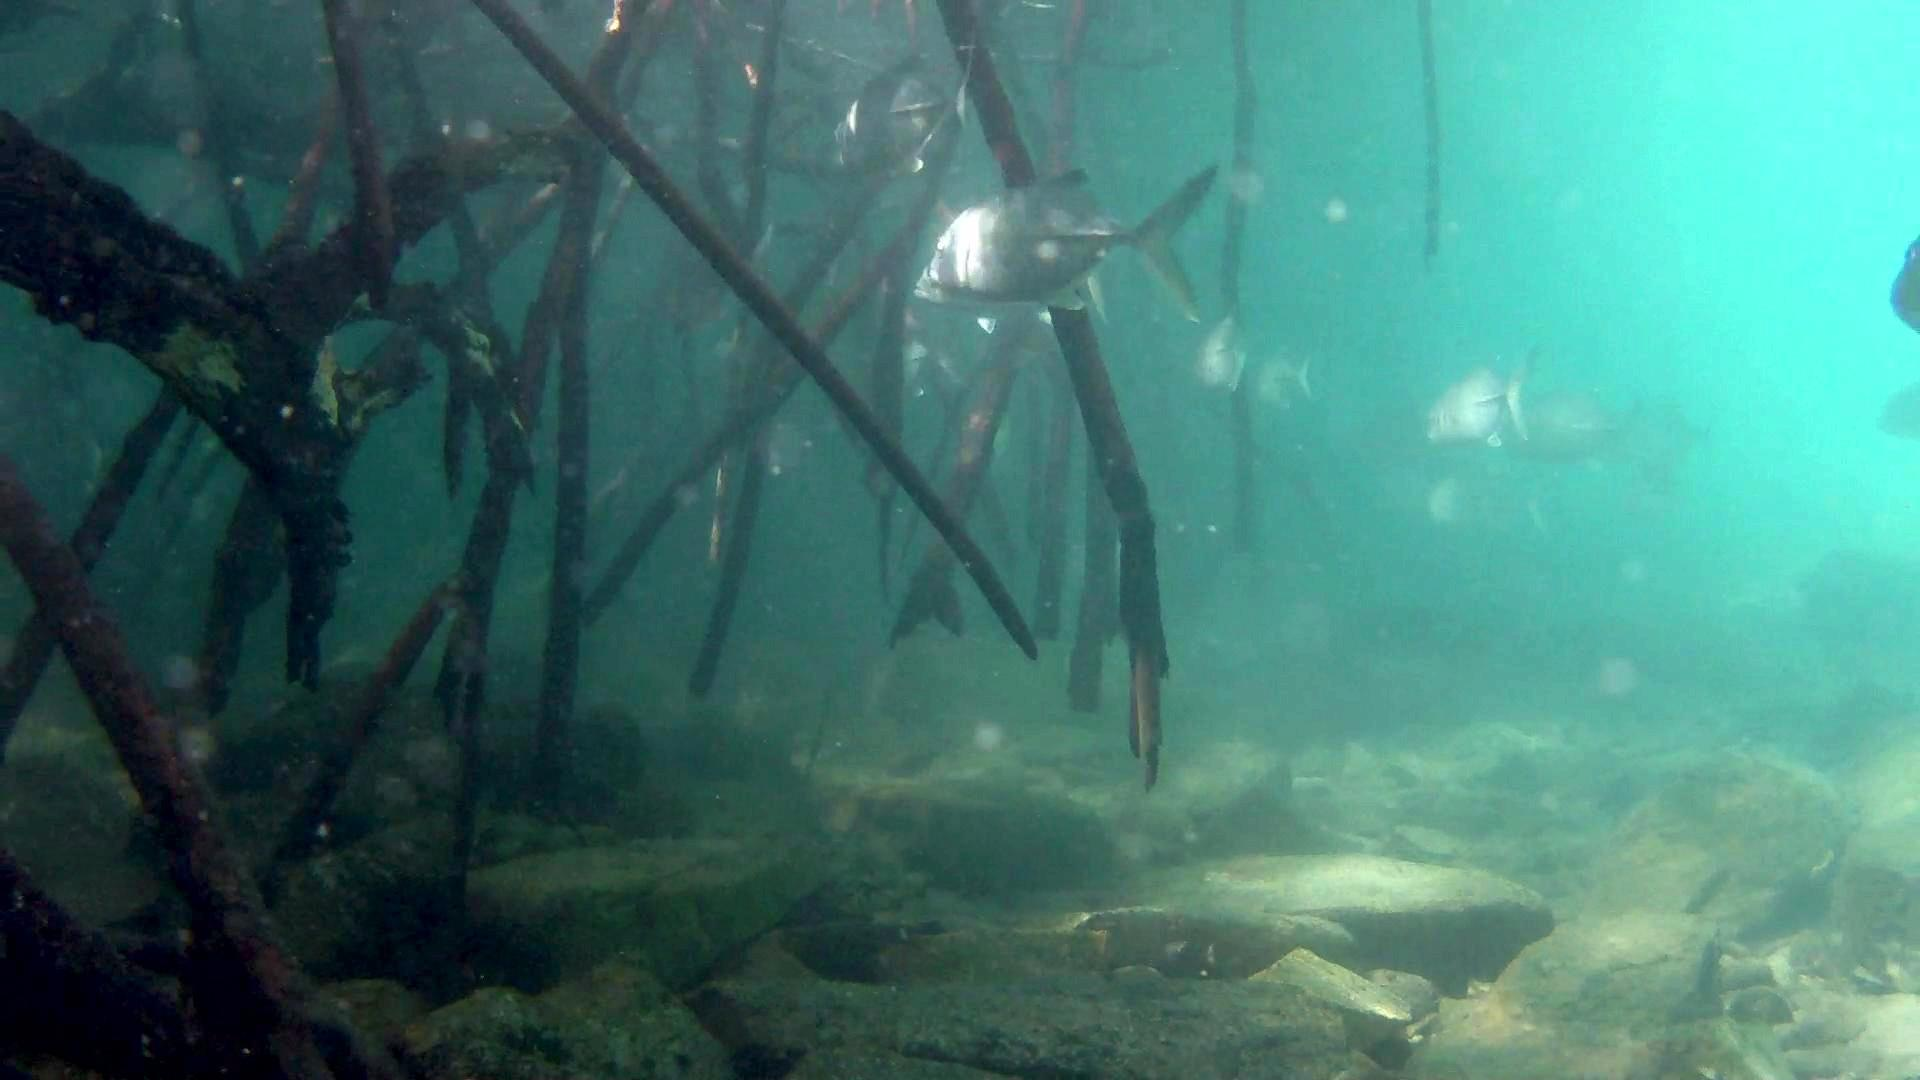caranx: (909, 148, 1212, 327)
